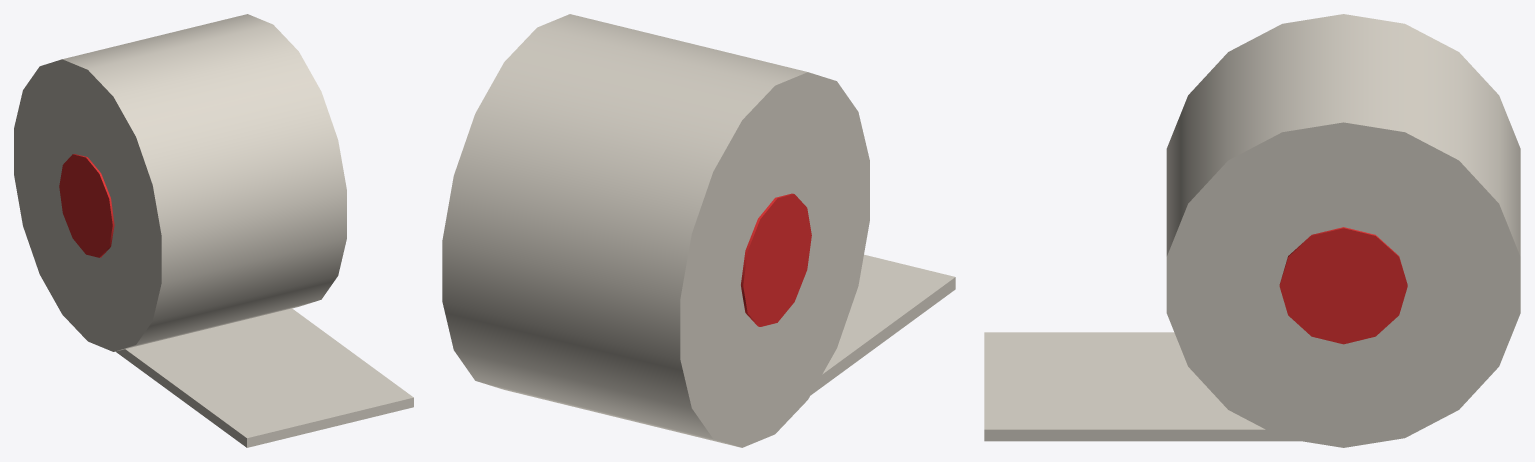
Rendered from Bandage.obj.
The picture shows the model from 3 angles, left to right: view 1: azimuth 30°, elevation 25°; view 2: azimuth 150°, elevation 25°; view 3: azimuth 270°, elevation 25°; orthographic projection. The views are drawn at different scales.
Parts seen in each view (by area): view 1: Roll, Tail, Core; view 2: Roll, Tail, Core; view 3: Roll, Tail, Core.
Boxes of the visible parts, x1,y1,x2,y2 form: Roll: (14, 14, 346, 351); Tail: (116, 308, 413, 447); Core: (59, 154, 114, 257); Roll: (442, 14, 869, 447); Tail: (810, 254, 955, 395); Core: (741, 193, 811, 326); Roll: (1166, 14, 1520, 447); Tail: (984, 332, 1300, 441); Core: (1279, 227, 1407, 344).
Size of the model in its own units: 0.102 by 0.14 by 0.2089.
